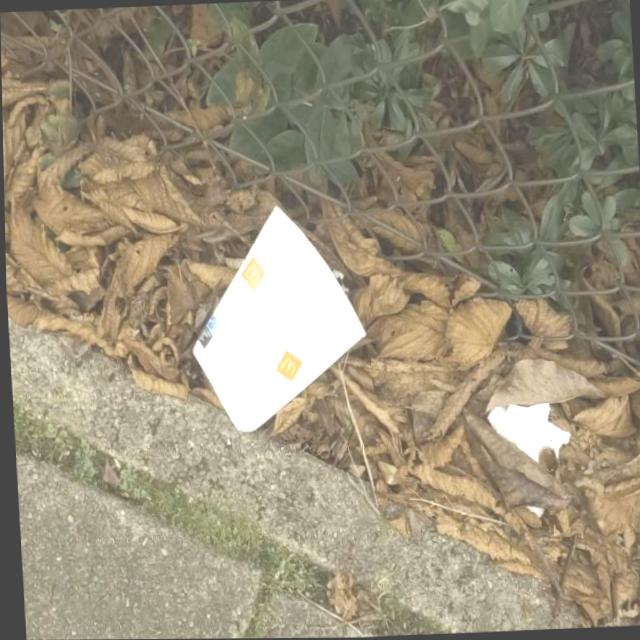Cup: (178, 199, 370, 438)
Paper: (482, 399, 572, 522)
